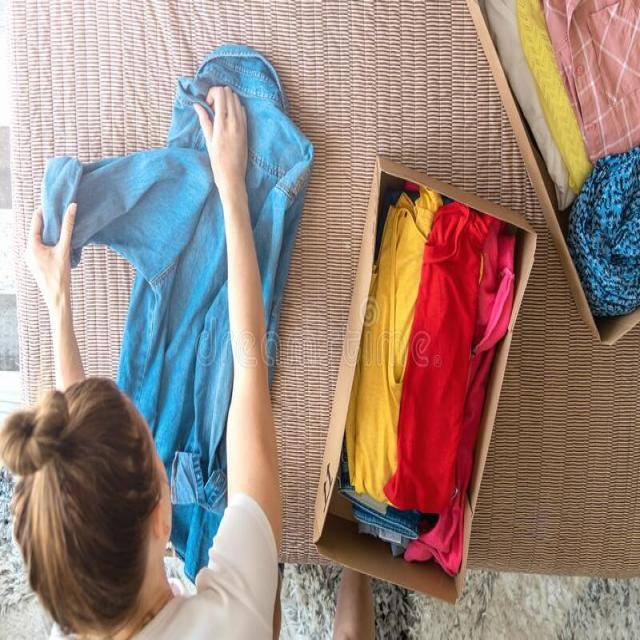clothes: (49, 134, 224, 386), (375, 201, 480, 505), (230, 43, 302, 291)
